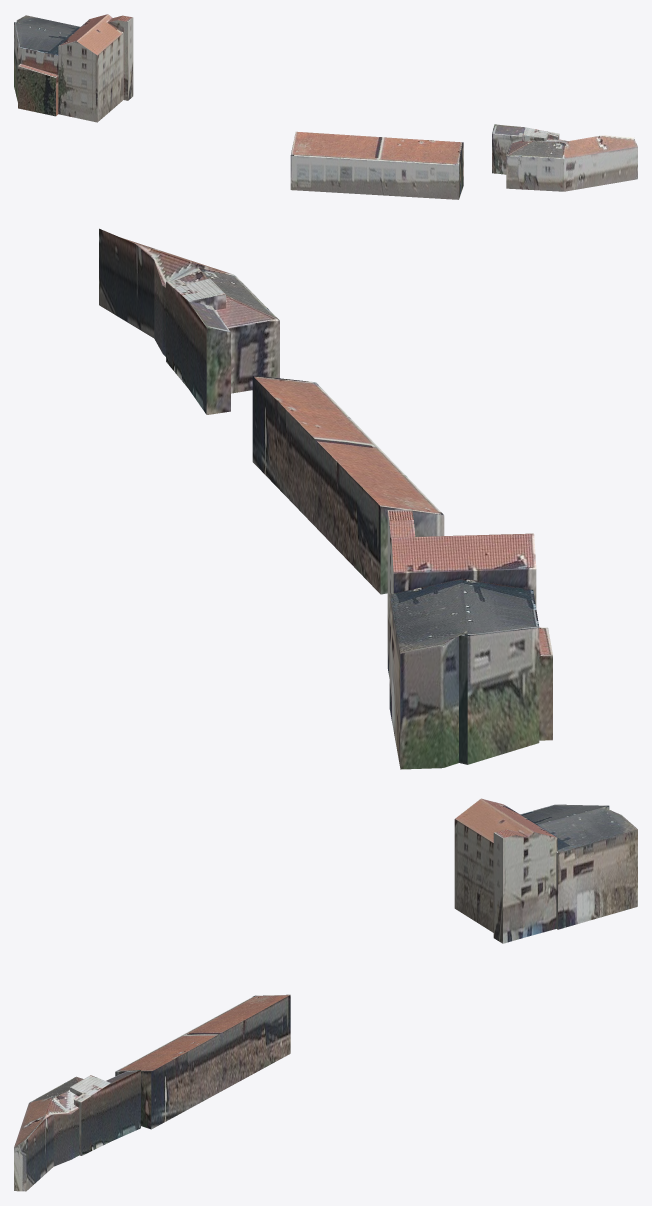
Rendered from LYON_1ER_00156.dae.
3 views of the same model, one above another, from view 1: azimuth 30°, elevation 25°; view 2: azimuth 150°, elevation 25°; view 3: azimuth 270°, elevation 25° (orthographic). The views are drawn at different scales.
Size of the model in its own units: 94.27 by 90.32 by 25.76.
Materials: 2 (2 with a texture image).
